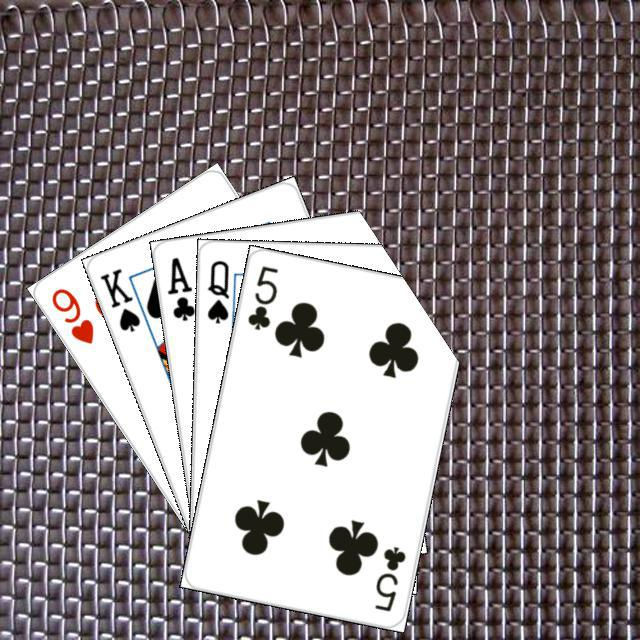5c: (370, 541, 408, 614), (243, 260, 280, 332)
9h: (46, 283, 96, 347)
Ac: (162, 252, 197, 323)
Ks: (95, 263, 143, 334)
Qs: (202, 256, 231, 325)
